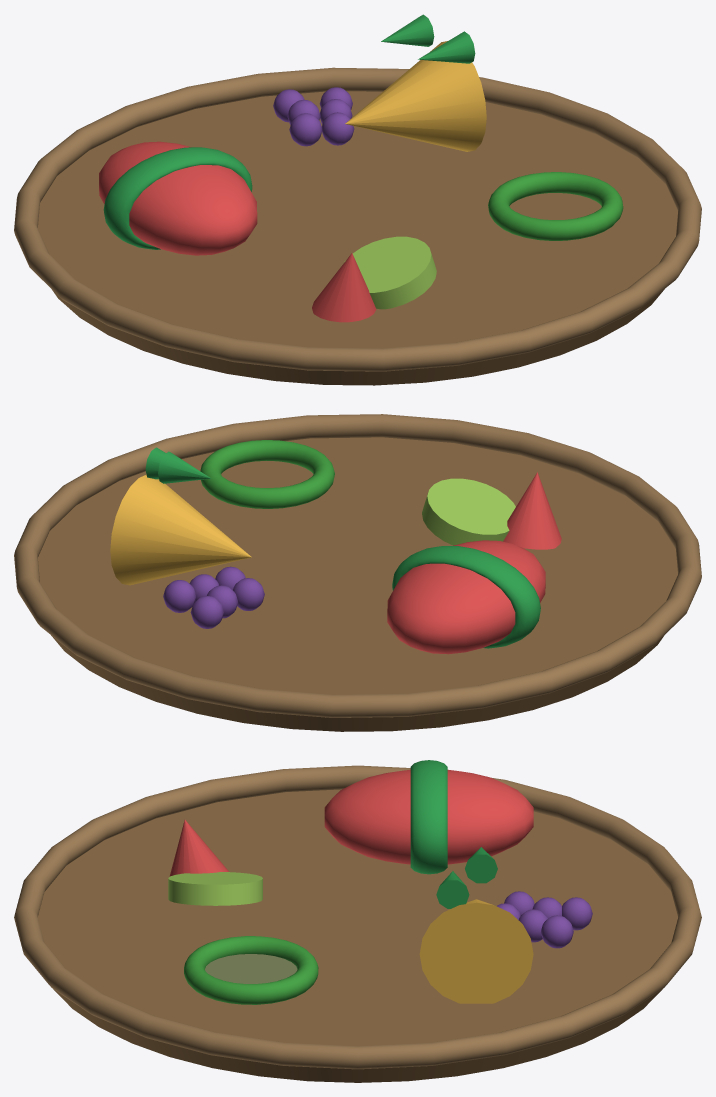
Rendered from frutas.glb.
3 views of the same model, one above another, from view 1: azimuth 30°, elevation 25°; view 2: azimuth 150°, elevation 25°; view 3: azimuth 270°, elevation 25° (orthographic).
Bounding box in the file's own units: 0.29 × 0.0727 × 0.29.
